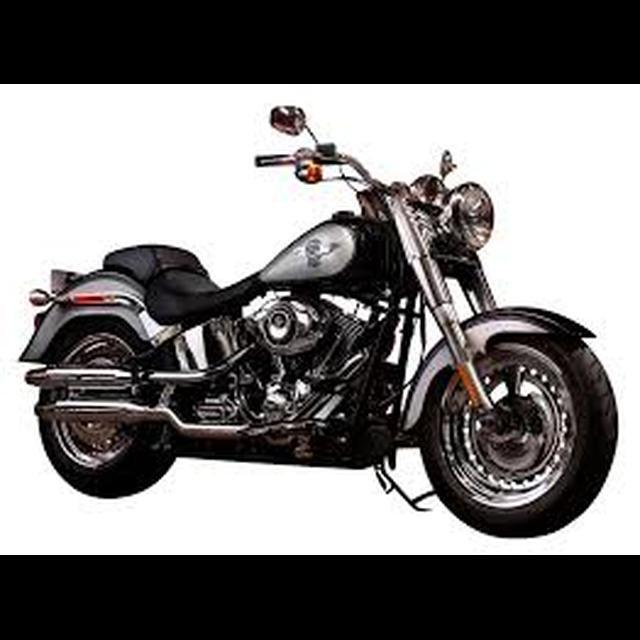motorcycle: (17, 99, 622, 542)
